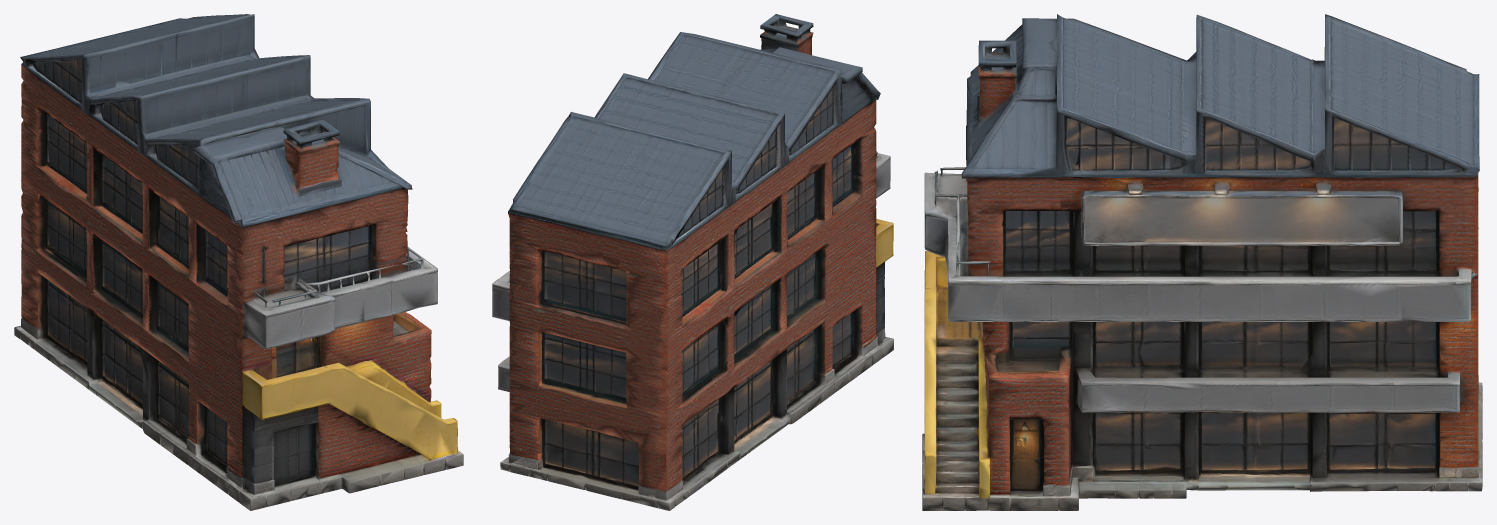
The model's file is level-3-web.glb.
3 views of the same model, side by side, from view 1: azimuth 30°, elevation 25°; view 2: azimuth 150°, elevation 25°; view 3: azimuth 270°, elevation 25° (orthographic). The views are drawn at different scales.
Parts seen in each view (by area): view 1: tripo_node_3c81cc34-615e-4ac8-a16f-83e4e6678e96; view 2: tripo_node_3c81cc34-615e-4ac8-a16f-83e4e6678e96; view 3: tripo_node_3c81cc34-615e-4ac8-a16f-83e4e6678e96.
Boxes of the visible parts, box(x1,y1,x2,y2) form: tripo_node_3c81cc34-615e-4ac8-a16f-83e4e6678e96: box(14, 14, 463, 510); tripo_node_3c81cc34-615e-4ac8-a16f-83e4e6678e96: box(492, 14, 893, 510); tripo_node_3c81cc34-615e-4ac8-a16f-83e4e6678e96: box(922, 14, 1482, 510).
Bounding box in the file's own units: 0.4936 × 0.7558 × 0.9792.
Materials: 1 (1 with a texture image).
